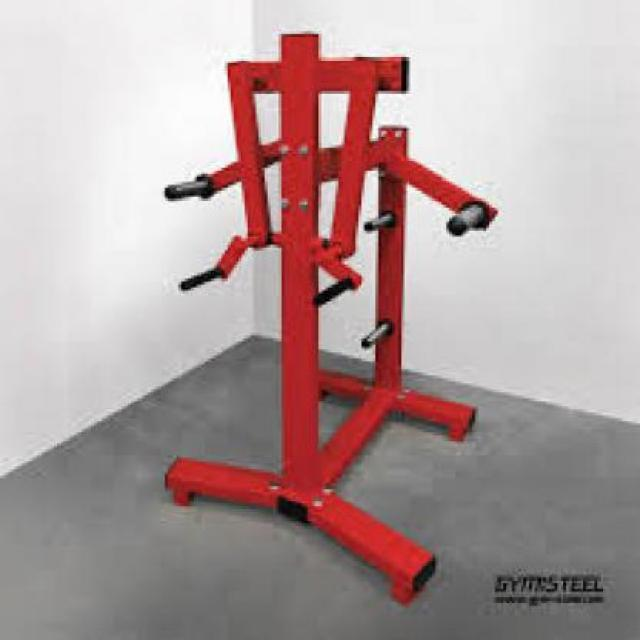lateral raises machine: (162, 30, 498, 608)
